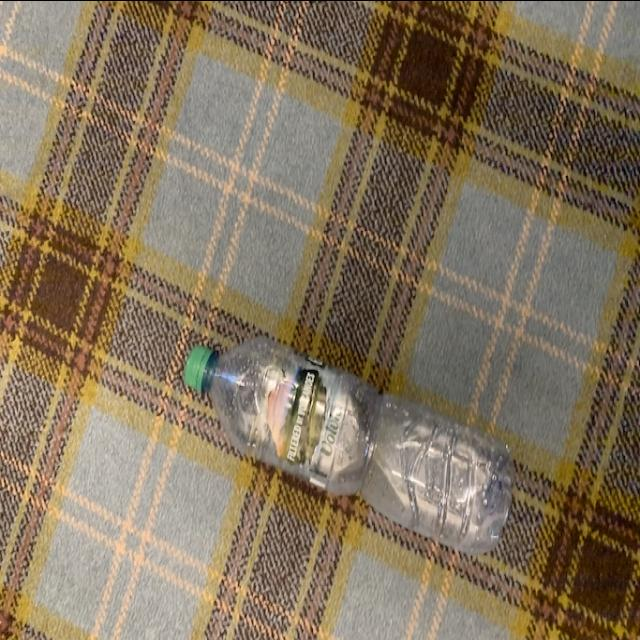PET: (184, 332, 522, 562)
